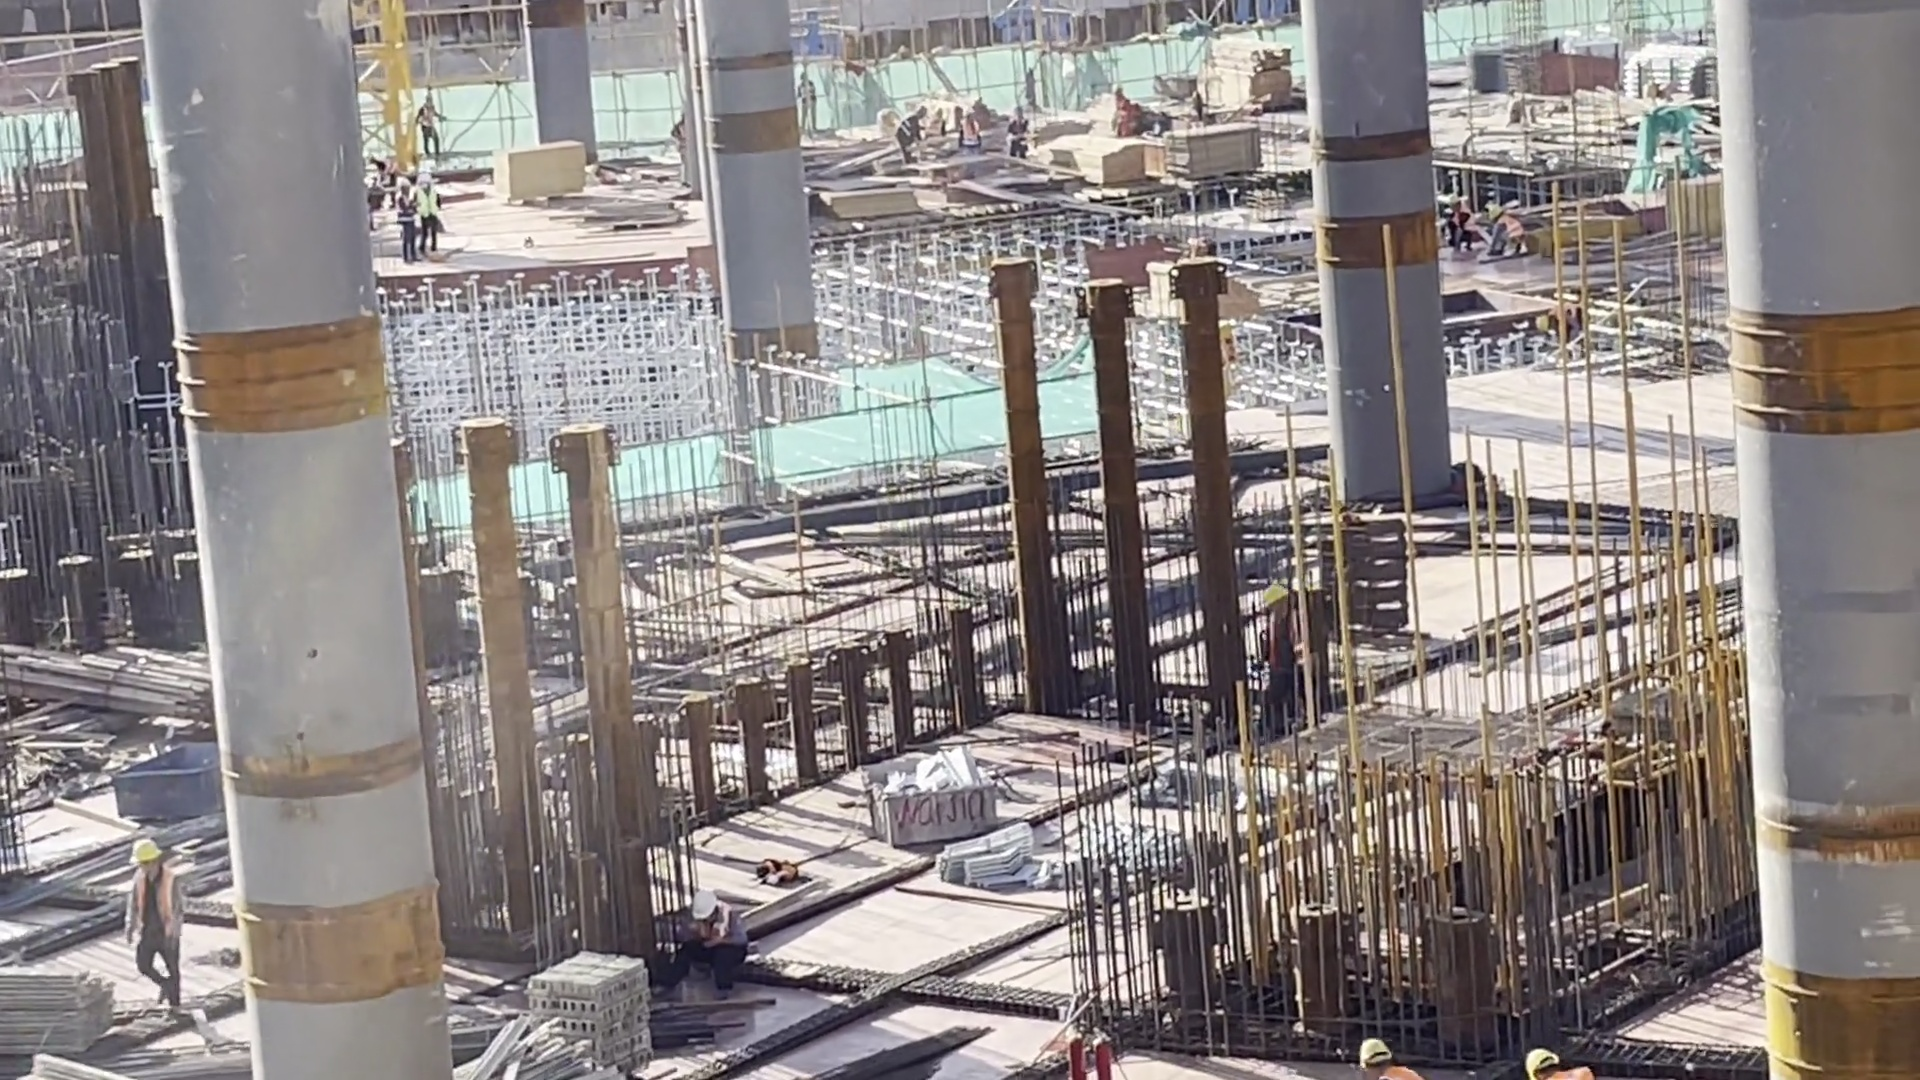helmet: (1519, 1039, 1554, 1078), (686, 893, 722, 923), (122, 841, 165, 868), (1356, 1038, 1396, 1064), (1265, 583, 1297, 613)
hopper: (867, 737, 1008, 846), (111, 727, 233, 816)
person: (100, 837, 203, 995), (667, 879, 757, 986), (1252, 576, 1301, 730), (1475, 198, 1534, 263), (417, 164, 454, 263), (1105, 83, 1156, 153), (385, 178, 428, 250), (1435, 187, 1479, 250), (1002, 102, 1030, 172), (414, 87, 441, 160), (905, 104, 933, 160)
vest: (107, 865, 183, 944)
wood: (1, 957, 117, 1065)
